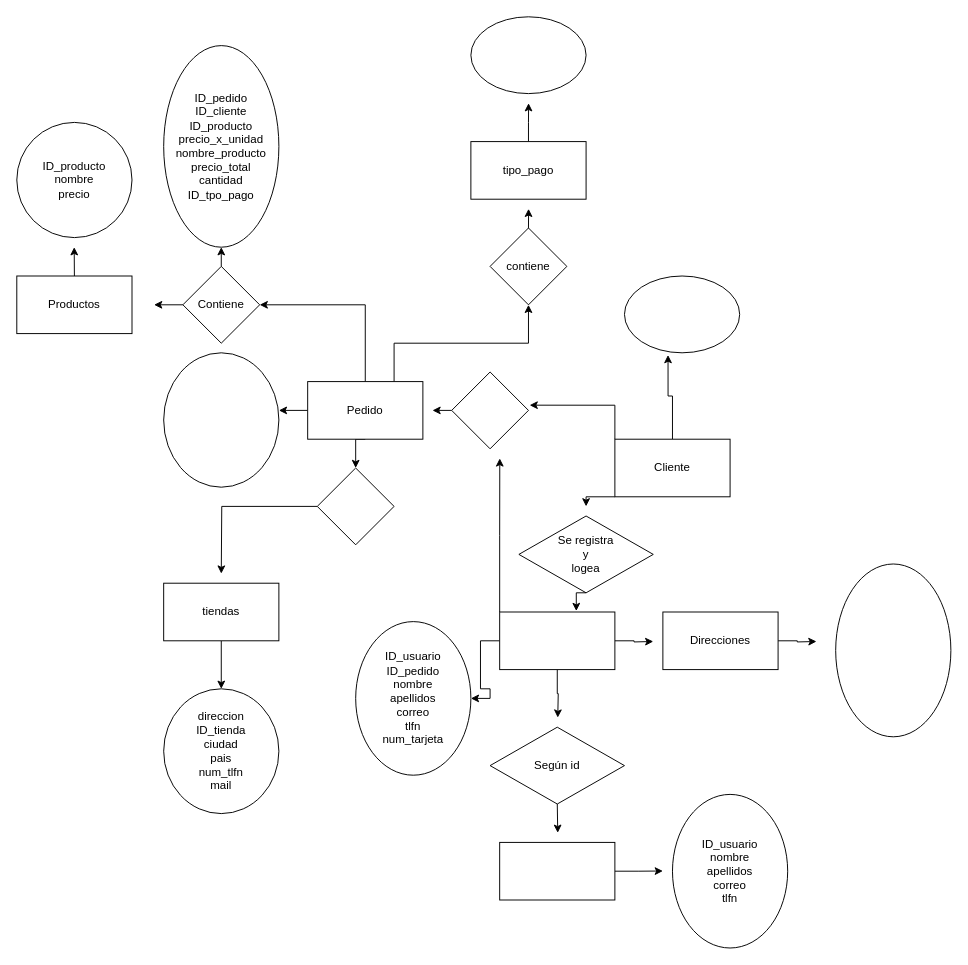
The diagram is 968 pixels wide and 965 high, and some of its shapes have lost their labels. The centre of each missing label's shape, as x and y in pixels:
"Admin" goes at point 557,870.
"efectivo tarjeta" goes at point 528,55.
"ID_cliente" goes at point 682,314.
"ID_direcciones Numero Calle Piso Postal Pais" goes at point 893,650.
"ID_pedido ID_cliente (comprobar id_usu) ID_factura fecha_pedido" goes at point 221,419.
"pertenece a" goes at point 355,506.
"Piden" goes at point 489,410.
"Usuario" goes at point 557,640.
